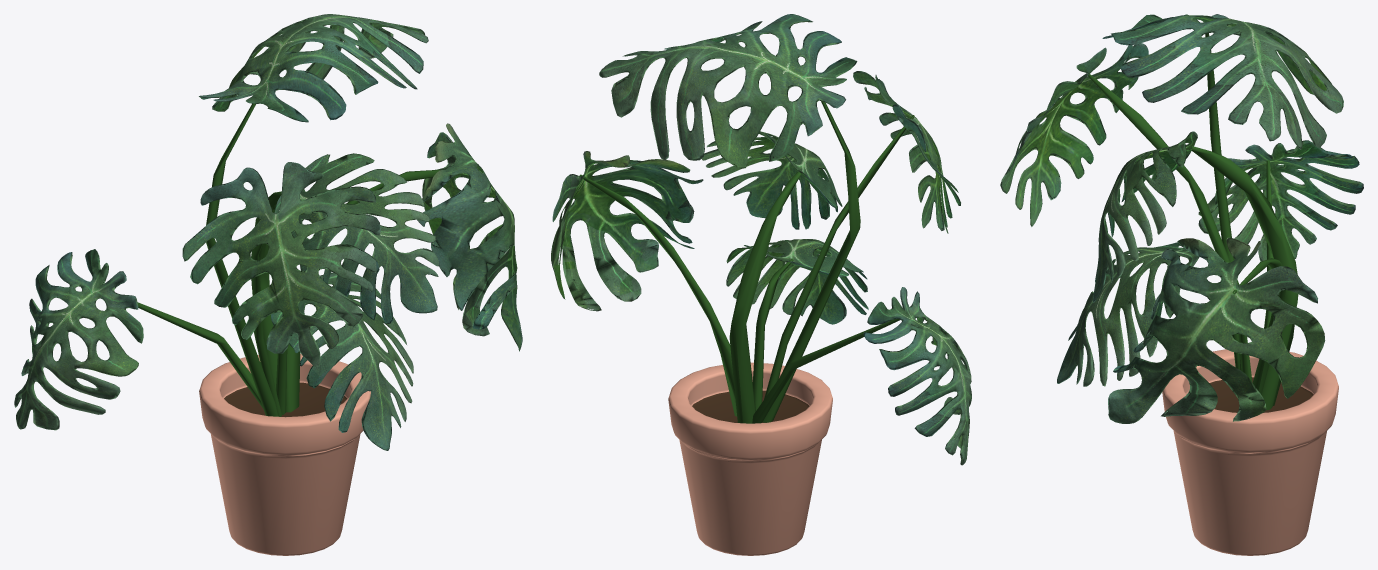
Rendered from monstera.gltf.
The picture shows the model from 3 angles, left to right: view 1: azimuth 30°, elevation 25°; view 2: azimuth 150°, elevation 25°; view 3: azimuth 270°, elevation 25°; orthographic projection. The views are drawn at different scales.
Parts seen in each view (by area): view 1: monstera, Circle; view 2: monstera, Circle; view 3: monstera, Circle.
Boxes of the visible parts, <box> form: monstera: <box>14,14,522,450</box>; Circle: <box>199,353,370,555</box>; monstera: <box>551,14,971,465</box>; Circle: <box>668,362,832,555</box>; monstera: <box>1000,14,1363,423</box>; Circle: <box>1162,349,1338,555</box>.
Size of the model in its own units: 7.45 by 7.85 by 5.
5 materials, 2 textured.
